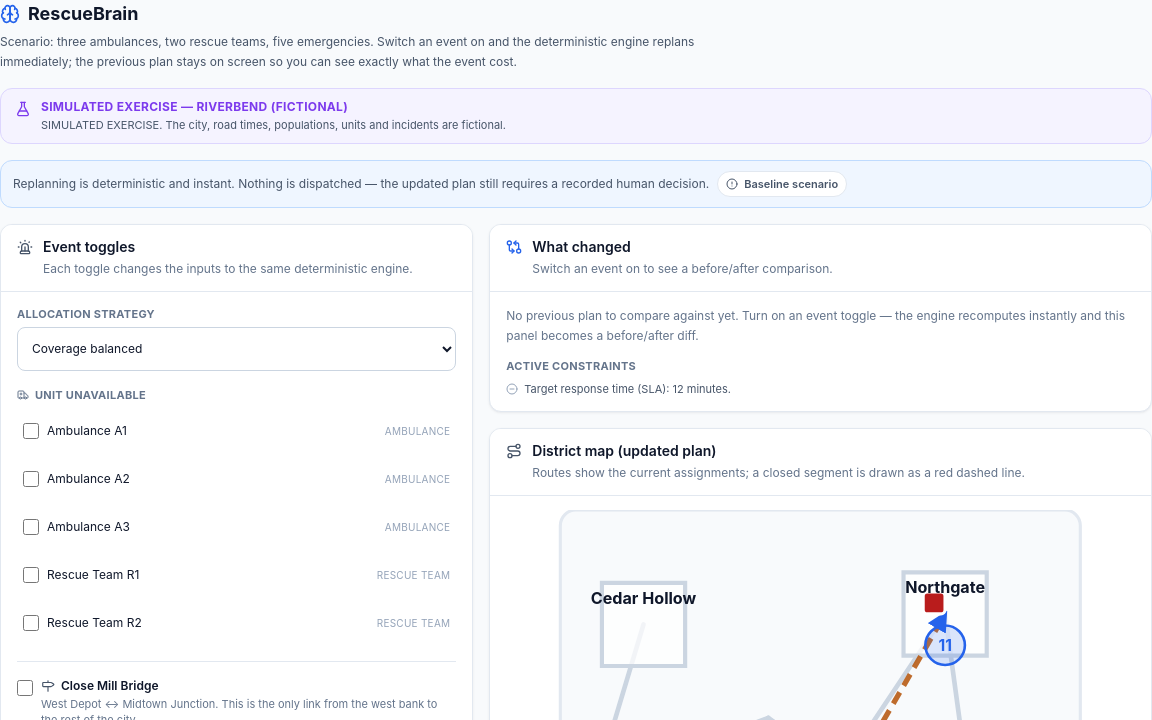
Scenario: RescueBrain › recomputes the same engine when an event toggle changes and diffs the result
Expected: the heading "RescueBrain" is shown, [0, 3, 138, 24]
Click the checkbox labelled "Close Mill Bridge": (25, 688) [17, 680, 33, 696]
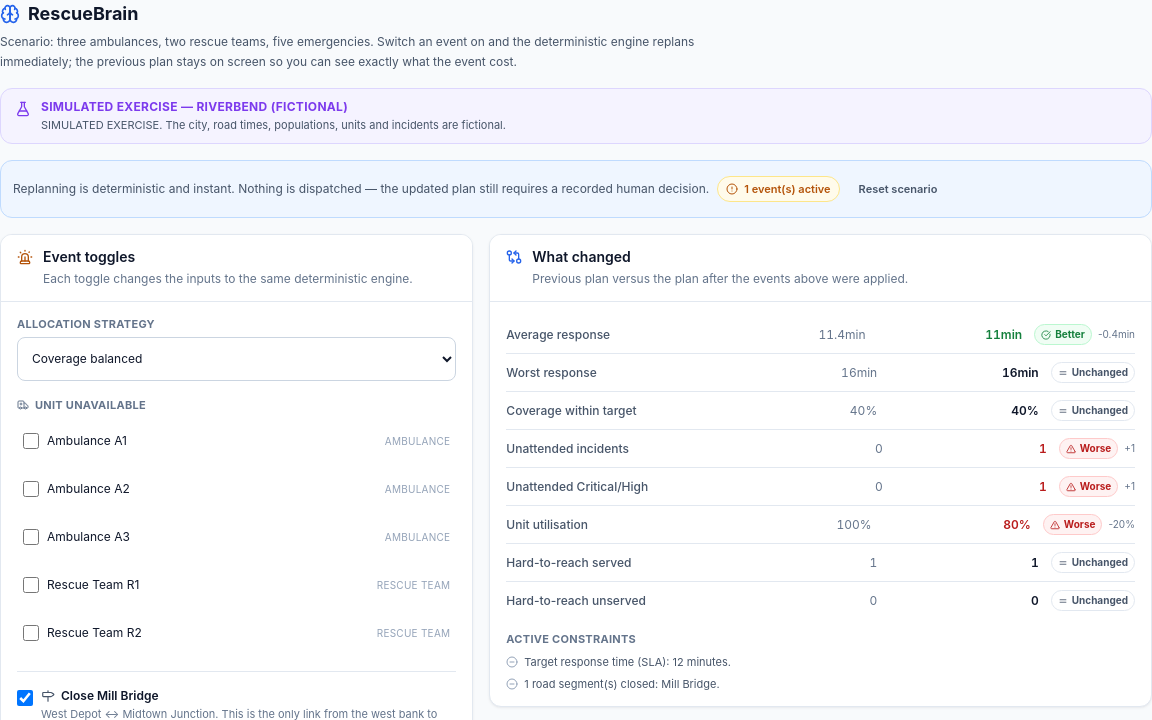
Now the text "Previous plan versus the plan after the events above were applied" is shown, box [532, 271, 908, 286]
Now the text "Average response" is shown, box [506, 326, 610, 342]
